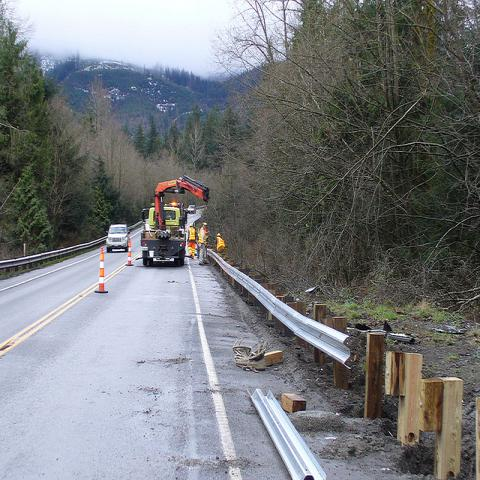car: (106, 223, 130, 253), (187, 205, 196, 213)
truck: (139, 175, 210, 266)
